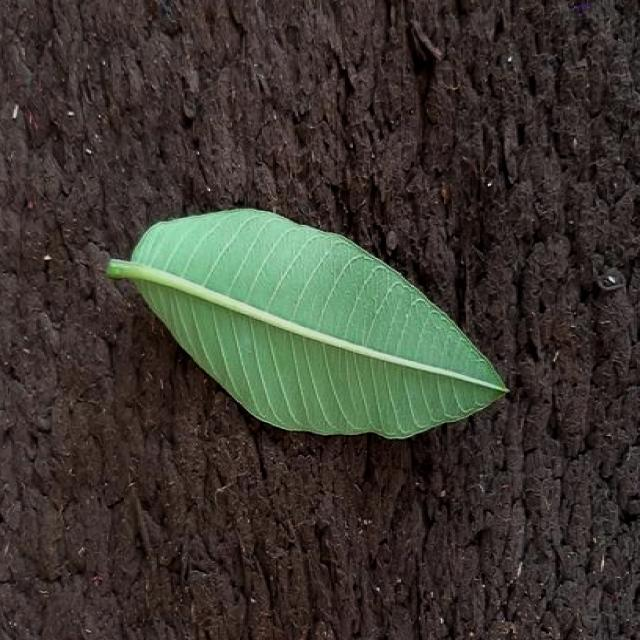leaf: (105, 205, 509, 440)
